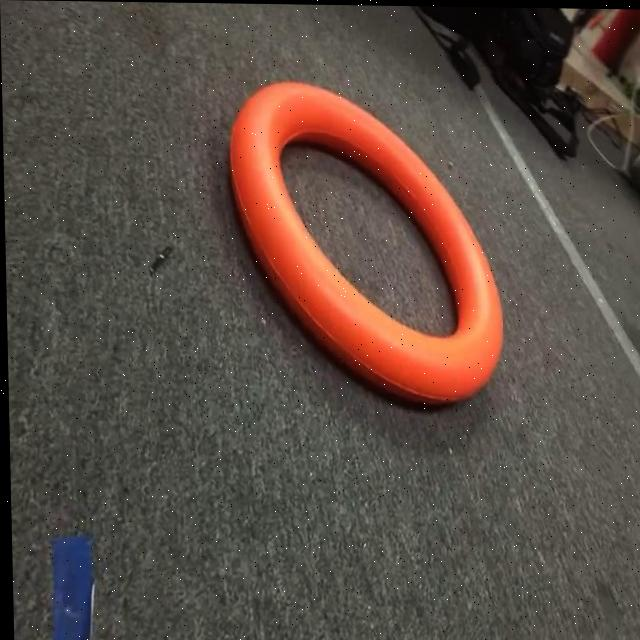note: (203, 67, 520, 419)
